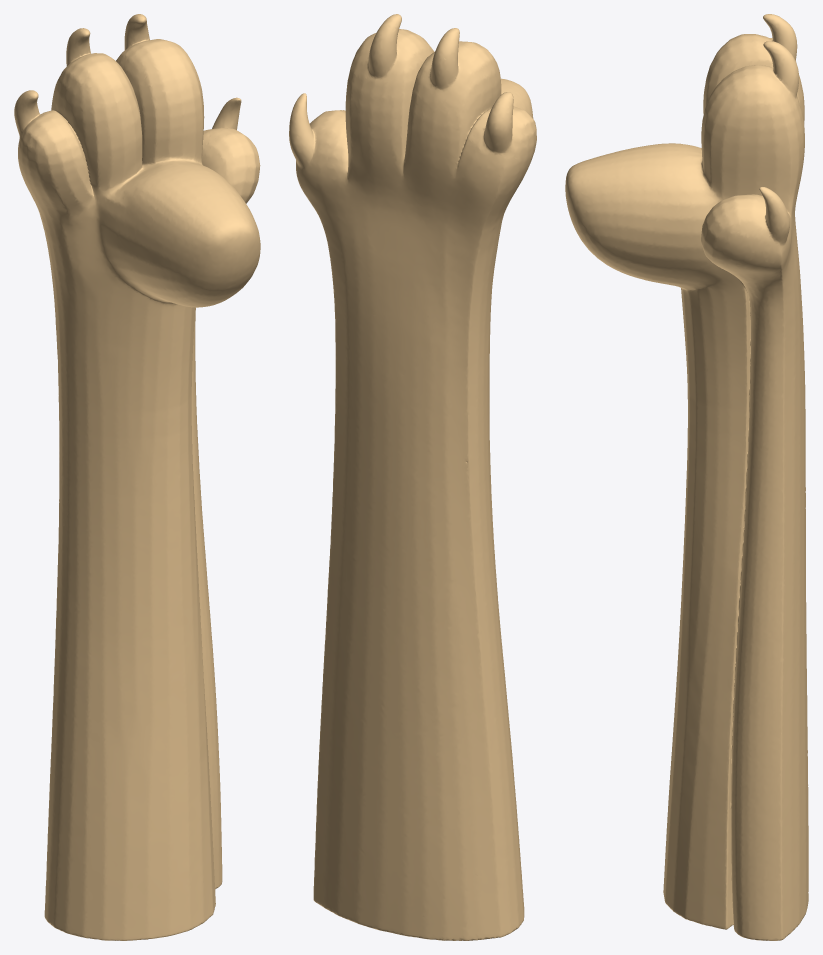
File: paw_hv.glb
3 views of the same model, side by side, from view 1: azimuth 30°, elevation 25°; view 2: azimuth 150°, elevation 25°; view 3: azimuth 270°, elevation 25° (orthographic). The views are drawn at different scales.
Visible parts, largest first — view 1: world; view 2: world; view 3: world.
Part boxes in pixels (x1,y1,x2,y2): world: (14, 14, 260, 940); world: (289, 14, 536, 940); world: (565, 14, 808, 940).
Size of the model in its own units: 0.2668 by 1 by 0.2553.
